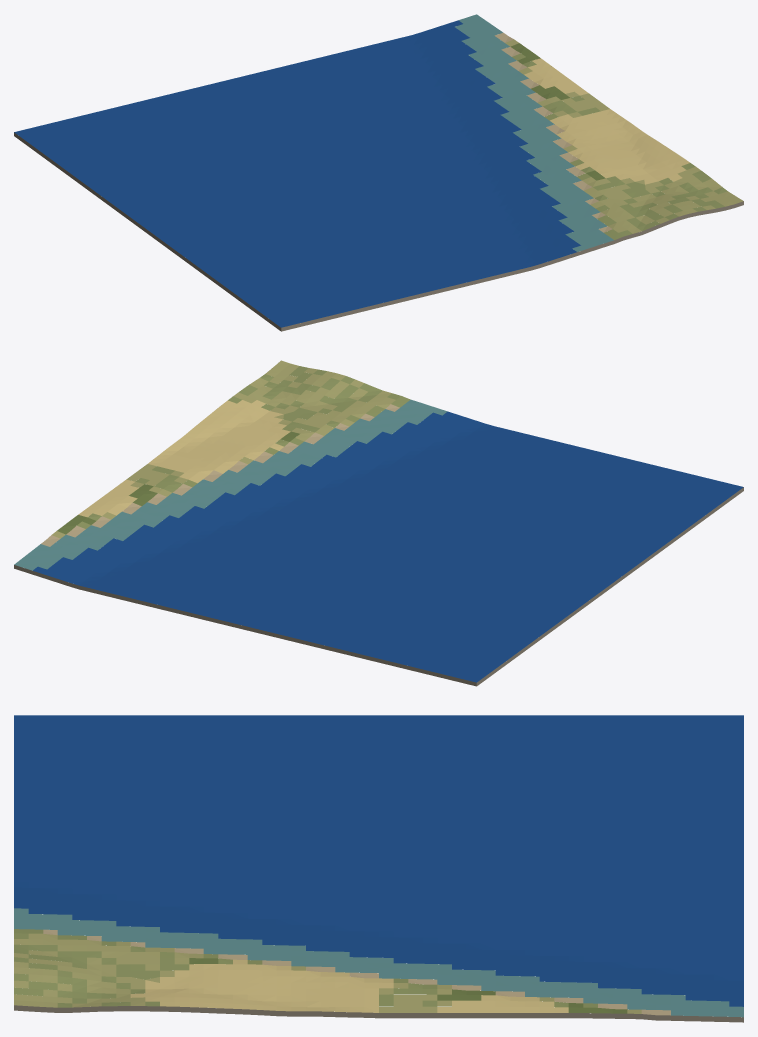
File: parca_-4_-3-uzak.glb
The picture shows the model from 3 angles, top to bottom: view 1: azimuth 30°, elevation 25°; view 2: azimuth 150°, elevation 25°; view 3: azimuth 270°, elevation 25°; orthographic projection. The views are drawn at different scales.
Parts seen in each view (by area): view 1: parca_-4_-3_arazi_uzak; view 2: parca_-4_-3_arazi_uzak; view 3: parca_-4_-3_arazi_uzak.
Part boxes in pixels (<box>): parca_-4_-3_arazi_uzak: <box>14,14,743,331</box>; parca_-4_-3_arazi_uzak: <box>14,360,743,686</box>; parca_-4_-3_arazi_uzak: <box>14,715,743,1022</box>.
Size of the model in its own units: 1000 by 37.85 by 1000.
